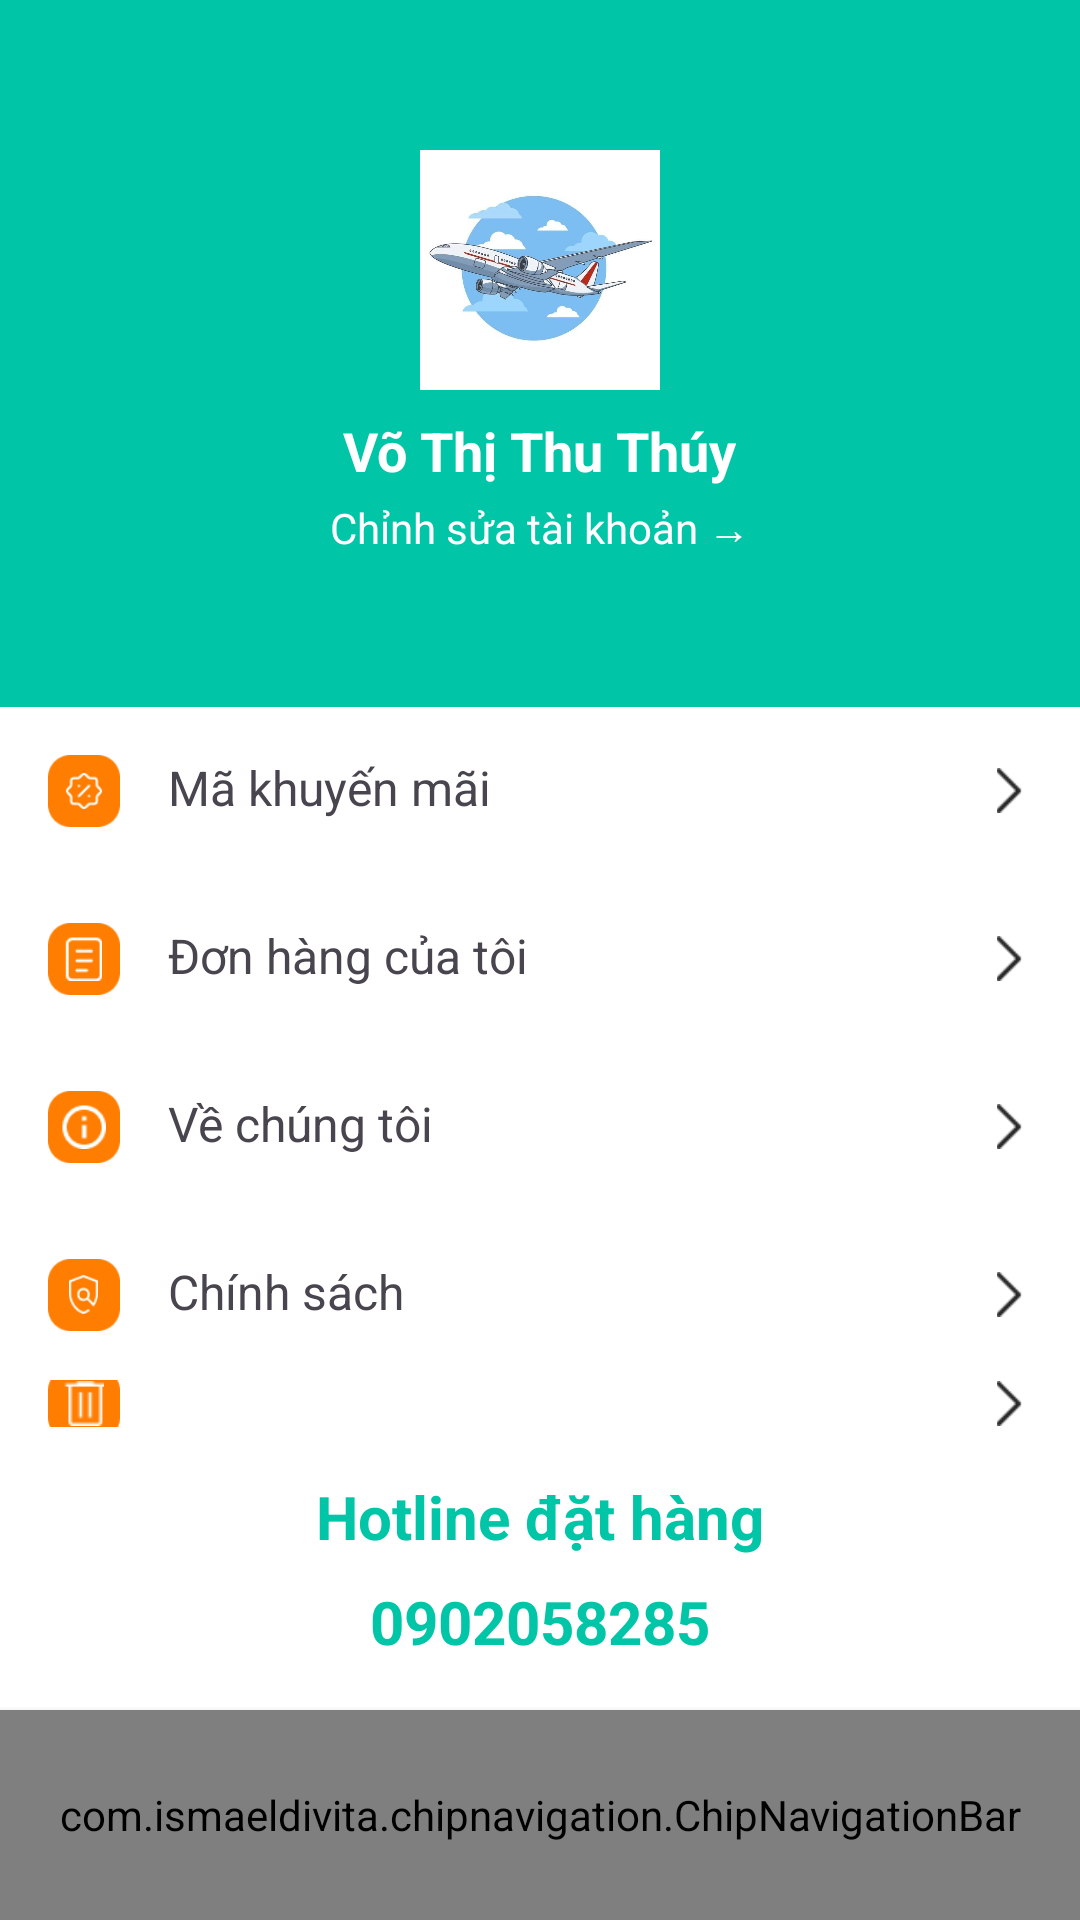

Named icons in this screenshot (1080×1920) and their centers, [x,y]:
about: [84,1127]
arrow right: [1009,790], [1009,958], [1009,1126], [1009,1294], [1009,1403]
delete: [83,1403]
discount: [84,791]
fly: [540,270]
order: [83,959]
policy: [83,1294]
